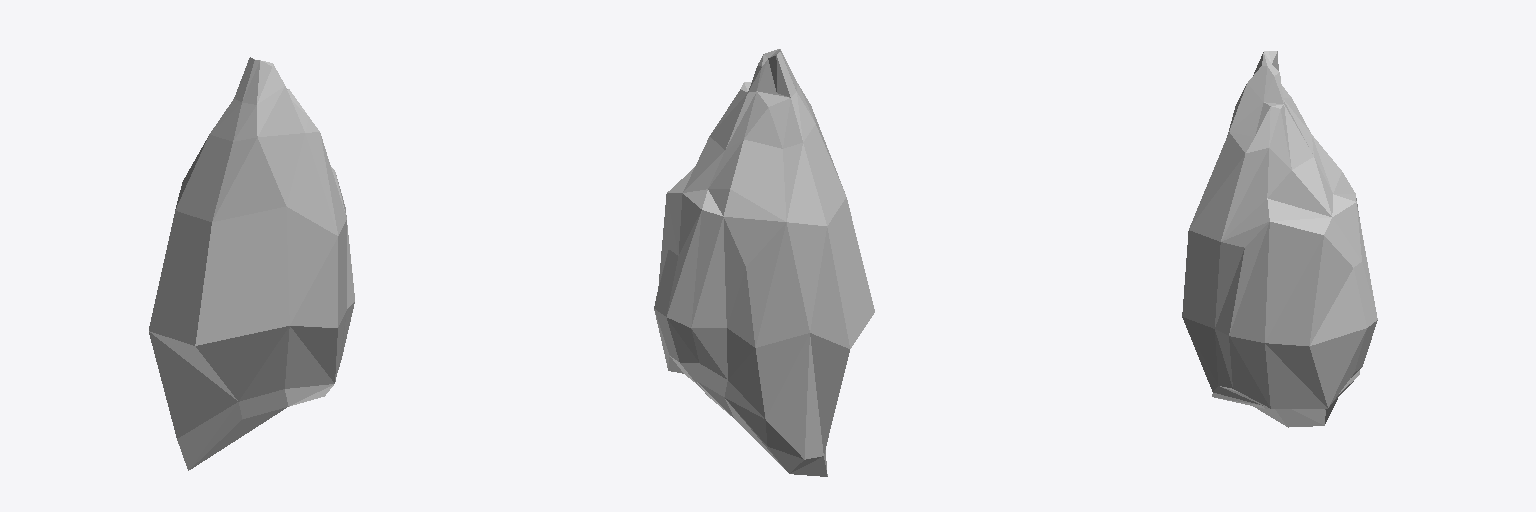
Rendered from Iceberg.obj.
3 renders of one model, left to right at view 1: azimuth 30°, elevation 25°; view 2: azimuth 150°, elevation 25°; view 3: azimuth 270°, elevation 25°, orthographic.
Parts seen in each view (by area): view 1: Iceberg_; view 2: Iceberg_; view 3: Iceberg_.
Boxes of the visible parts, x1,y1,x2,y2 form: Iceberg_: [149, 57, 354, 470]; Iceberg_: [654, 49, 874, 476]; Iceberg_: [1182, 51, 1377, 427].
Bounding box in the file's own units: 33.94 × 69.19 × 30.28.